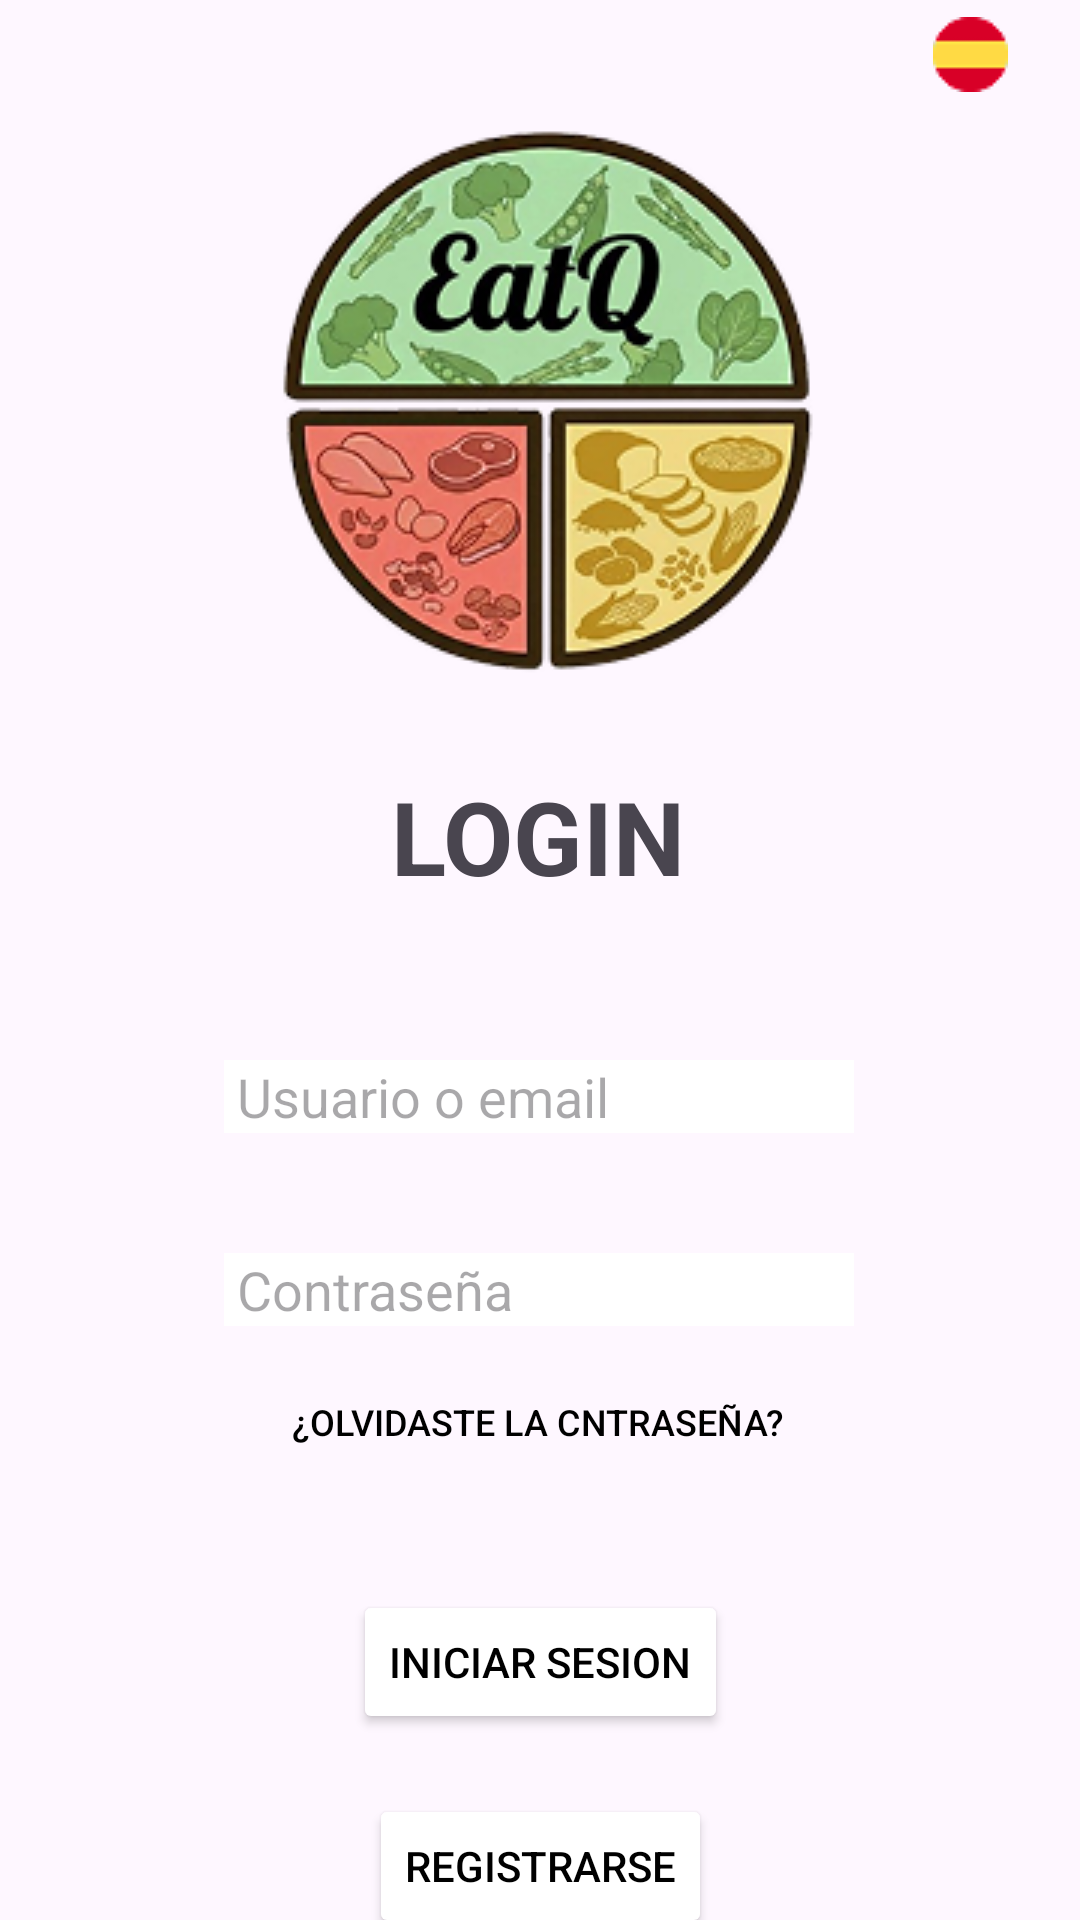

Screen size 1080×1920. Icon name, then its center in pixels as [x,y]:
bespana: [970,54]
